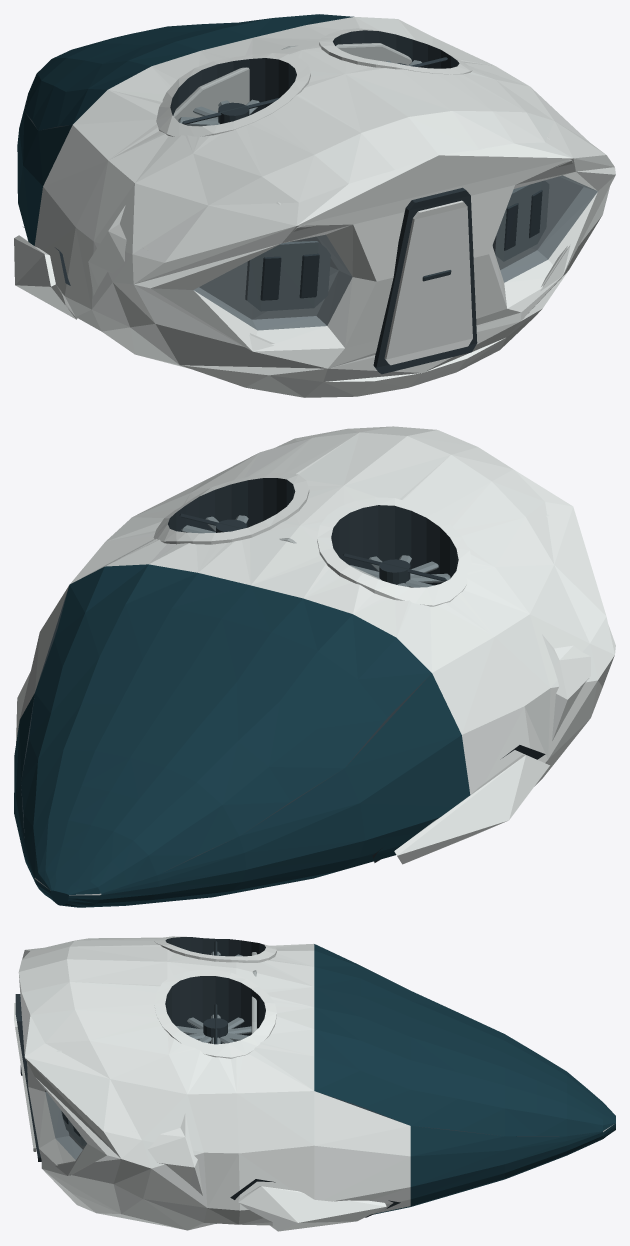
File: Drone50Updated.fbx
3 renders of one model, top to bottom at view 1: azimuth 30°, elevation 25°; view 2: azimuth 150°, elevation 25°; view 3: azimuth 270°, elevation 25°, orthographic. The views are drawn at different scales.
Visible parts, largest first — view 1: 50 cargo - hull with ingress and window slots, One wraparound visor.005, Central cargo hatch.005, Recessed lift-fan duct.010, Cargo hatch dark surround.005, Square recessed exhaust opening.010, Recessed lift-fan duct.011, Cabin | rear bulkhead.004, Sculpted folded ivory arm Left.005, Square recessed exhaust opening.011, Square exhaust dark slot.020, Square exhaust dark slot.021 (+2 smaller); view 2: 50 cargo - hull with ingress and window slots, One wraparound visor.005, Recessed lift-fan duct.010, Recessed lift-fan duct.011, Sculpted folded ivory arm Left.005, Cockpit | hinged side ingress hatch - 50, Raised canopy perimeter seal.005, Fan hub.010; view 3: 50 cargo - hull with ingress and window slots, One wraparound visor.005, Cockpit | hinged side ingress hatch - 50, Recessed lift-fan duct.011, Sculpted folded ivory arm Right.005, Recessed lift-fan duct.010, Cargo hatch dark surround.005, Central cargo hatch.005, Fan hub.011.
Part boxes in pixels (<box>): 50 cargo - hull with ingress and window slots: <box>17,17,615,397</box>; One wraparound visor.005: <box>24,14,353,130</box>; Central cargo hatch.005: <box>384,200,472,365</box>; Recessed lift-fan duct.010: <box>156,53,310,136</box>; Cargo hatch dark surround.005: <box>373,187,477,374</box>; Square recessed exhaust opening.010: <box>245,241,330,311</box>; Recessed lift-fan duct.011: <box>319,28,472,74</box>; Cabin | rear bulkhead.004: <box>173,43,411,126</box>; Sculpted folded ivory arm Left.005: <box>14,235,77,319</box>; Square recessed exhaust opening.011: <box>493,180,549,261</box>; Square exhaust dark slot.020: <box>260,256,281,300</box>; Square exhaust dark slot.021: <box>299,253,319,298</box>; 50 cargo - hull with ingress and window slots: <box>14,426,615,907</box>; One wraparound visor.005: <box>21,564,431,905</box>; Recessed lift-fan duct.010: <box>317,497,471,606</box>; Recessed lift-fan duct.011: <box>153,472,309,544</box>; Sculpted folded ivory arm Left.005: <box>394,755,549,864</box>; Cockpit | hinged side ingress hatch - 50: <box>20,586,68,718</box>; Raised canopy perimeter seal.005: <box>21,589,428,871</box>; Fan hub.010: <box>379,559,410,584</box>; 50 cargo - hull with ingress and window slots: <box>18,937,615,1230</box>; One wraparound visor.005: <box>314,944,615,1136</box>; Cockpit | hinged side ingress hatch - 50: <box>314,1091,410,1214</box>; Recessed lift-fan duct.011: <box>154,970,276,1058</box>; Sculpted folded ivory arm Right.005: <box>238,1186,386,1231</box>; Recessed lift-fan duct.010: <box>154,936,276,962</box>; Cargo hatch dark surround.005: <box>15,994,41,1161</box>; Central cargo hatch.005: <box>14,1003,36,1151</box>; Fan hub.011: <box>203,1018,227,1042</box>.
Size of the model in its own units: 3.29 by 1.85 by 4.36.
